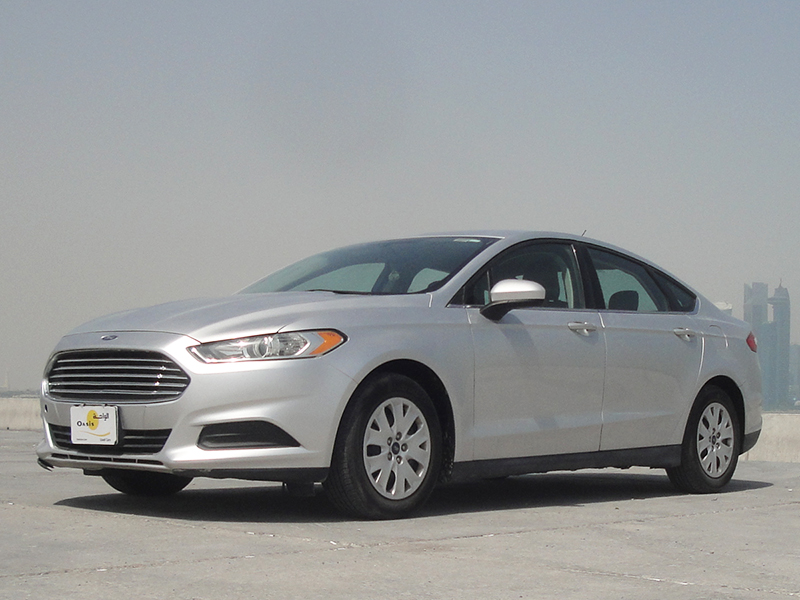other: (31, 225, 771, 512)
